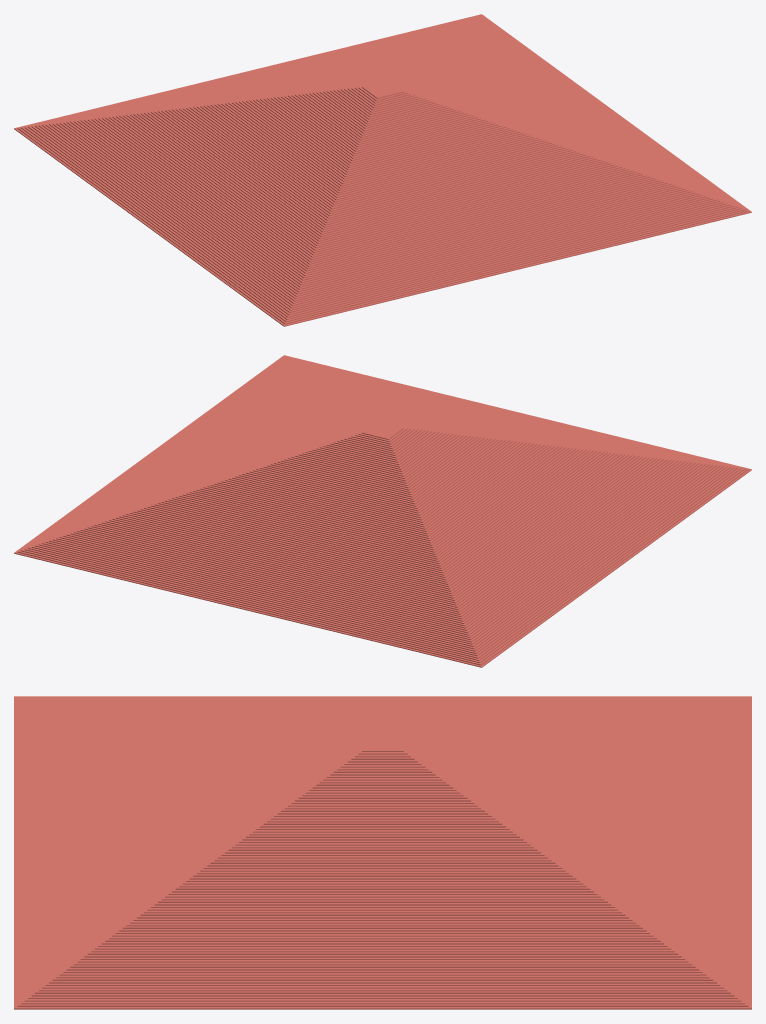
Rendered from podium.fbx.
3 views of the same model, one above another, from view 1: azimuth 30°, elevation 25°; view 2: azimuth 150°, elevation 25°; view 3: azimuth 270°, elevation 25° (orthographic). The views are drawn at different scales.
Parts seen in each view (by area): view 1: cube_100, cube_99, cube_98, cube_97, cube_96, cube_95, cube_94, cube_93, cube_92, cube_91, cube_90, cube_89 (+77 smaller); view 2: cube_100, cube_99, cube_98, cube_97, cube_96, cube_95, cube_94, cube_93, cube_92, cube_91, cube_90, cube_89 (+77 smaller); view 3: cube_98, cube_93, cube_83, cube_91, cube_88, cube_100, cube_89, cube_99, cube_87, cube_97, cube_96, cube_85 (+84 smaller).
Part boxes in pixels (x1,y1,x2,y2): cube_100: (14,14,751,326); cube_99: (17,15,748,324); cube_98: (21,15,744,321); cube_97: (24,16,741,319); cube_96: (28,17,737,317); cube_95: (31,17,734,315); cube_94: (35,18,730,312); cube_93: (38,19,727,310); cube_92: (42,19,723,308); cube_91: (45,20,720,305); cube_90: (49,21,716,303); cube_89: (52,21,713,301); cube_100: (14,355,751,667); cube_99: (17,356,748,665); cube_98: (21,356,744,662); cube_97: (24,357,741,660); cube_96: (28,358,737,658); cube_95: (31,358,734,656); cube_94: (35,359,730,653); cube_93: (38,360,727,651); cube_92: (42,360,723,649); cube_91: (45,361,720,646); cube_90: (49,362,716,644); cube_89: (52,362,713,642); cube_98: (21,697,744,1004); cube_93: (38,699,727,991); cube_83: (73,702,692,965); cube_91: (45,699,720,985); cube_88: (56,701,709,978); cube_100: (14,696,751,1009); cube_89: (52,700,713,980); cube_99: (17,697,748,1006); cube_87: (59,701,706,975); cube_97: (24,697,741,1001); cube_96: (28,698,737,998); cube_85: (66,702,699,970).
Size of the model in its own units: 210 by 35 by 210.
